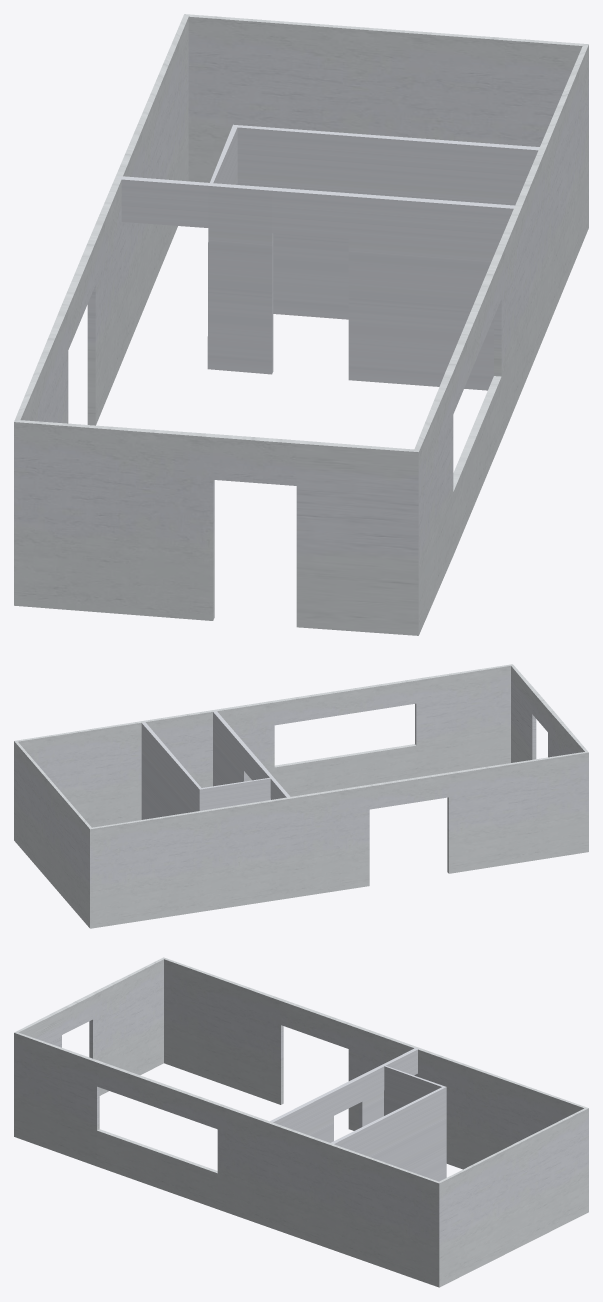
The picture shows the model from 3 angles, top to bottom: view 1: azimuth 30°, elevation 25°; view 2: azimuth 150°, elevation 25°; view 3: azimuth 270°, elevation 25°; orthographic projection. The views are drawn at different scales.
Visible parts, largest first — view 1: Plane013_paviment2_0; view 2: Plane013_paviment2_0; view 3: Plane013_paviment2_0.
Boxes of the visible parts, left/top/right/bottom form: Plane013_paviment2_0: left=14, top=14, right=588, bottom=635; Plane013_paviment2_0: left=14, top=664, right=588, bottom=928; Plane013_paviment2_0: left=14, top=957, right=588, bottom=1287.
Bounding box in the file's own units: 12.12 × 2.6 × 13.02.
Materials: 1 (1 with a texture image).
